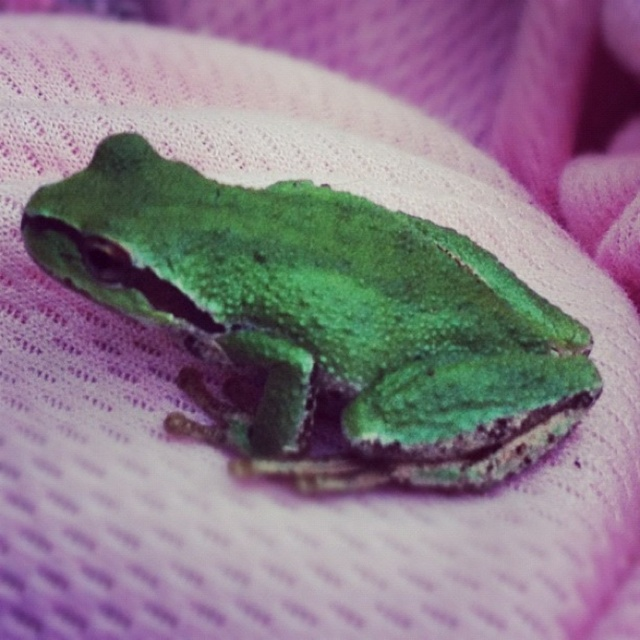Frog: (18, 129, 603, 498)
